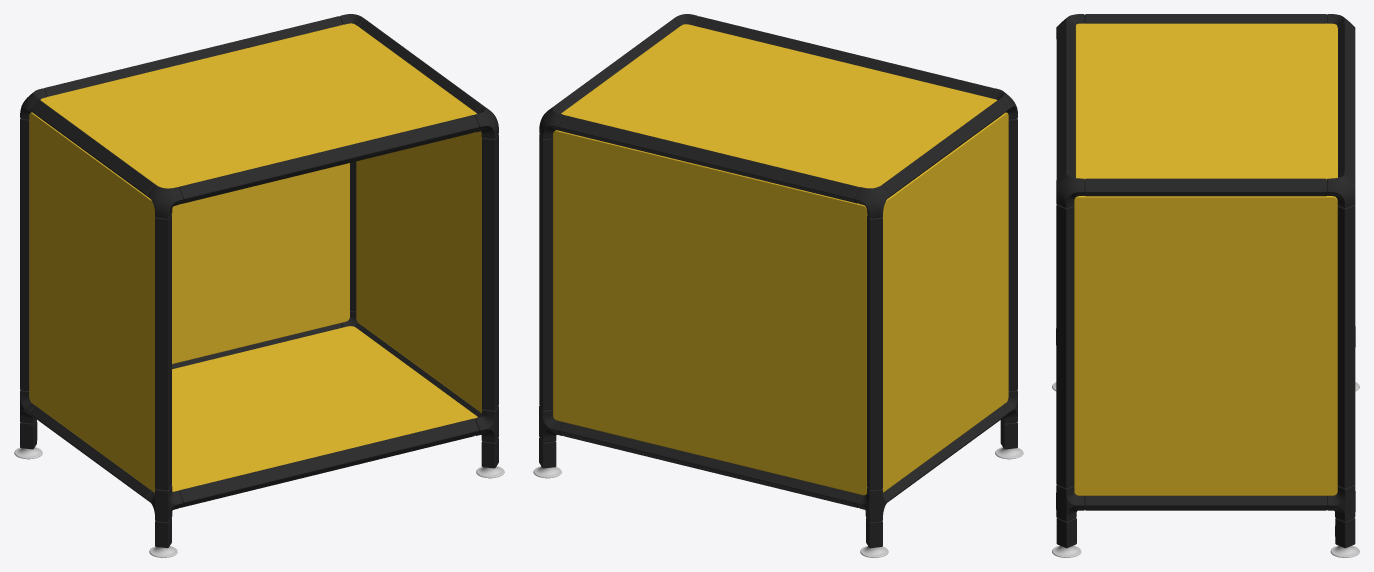
3 views of the same model, side by side, from view 1: azimuth 30°, elevation 25°; view 2: azimuth 150°, elevation 25°; view 3: azimuth 270°, elevation 25° (orthographic). The views are drawn at different scales.
Visible parts, largest first — view 1: 479x329x420; view 2: 479x329x420; view 3: 479x329x420.
Boxes of the visible parts, left/top/right/bottom form: 479x329x420: left=14, top=14, right=504, bottom=557; 479x329x420: left=533, top=14, right=1023, bottom=557; 479x329x420: left=1052, top=14, right=1359, bottom=557.
Size of the model in its own units: 0.5689 by 0.5593 by 0.4182.
